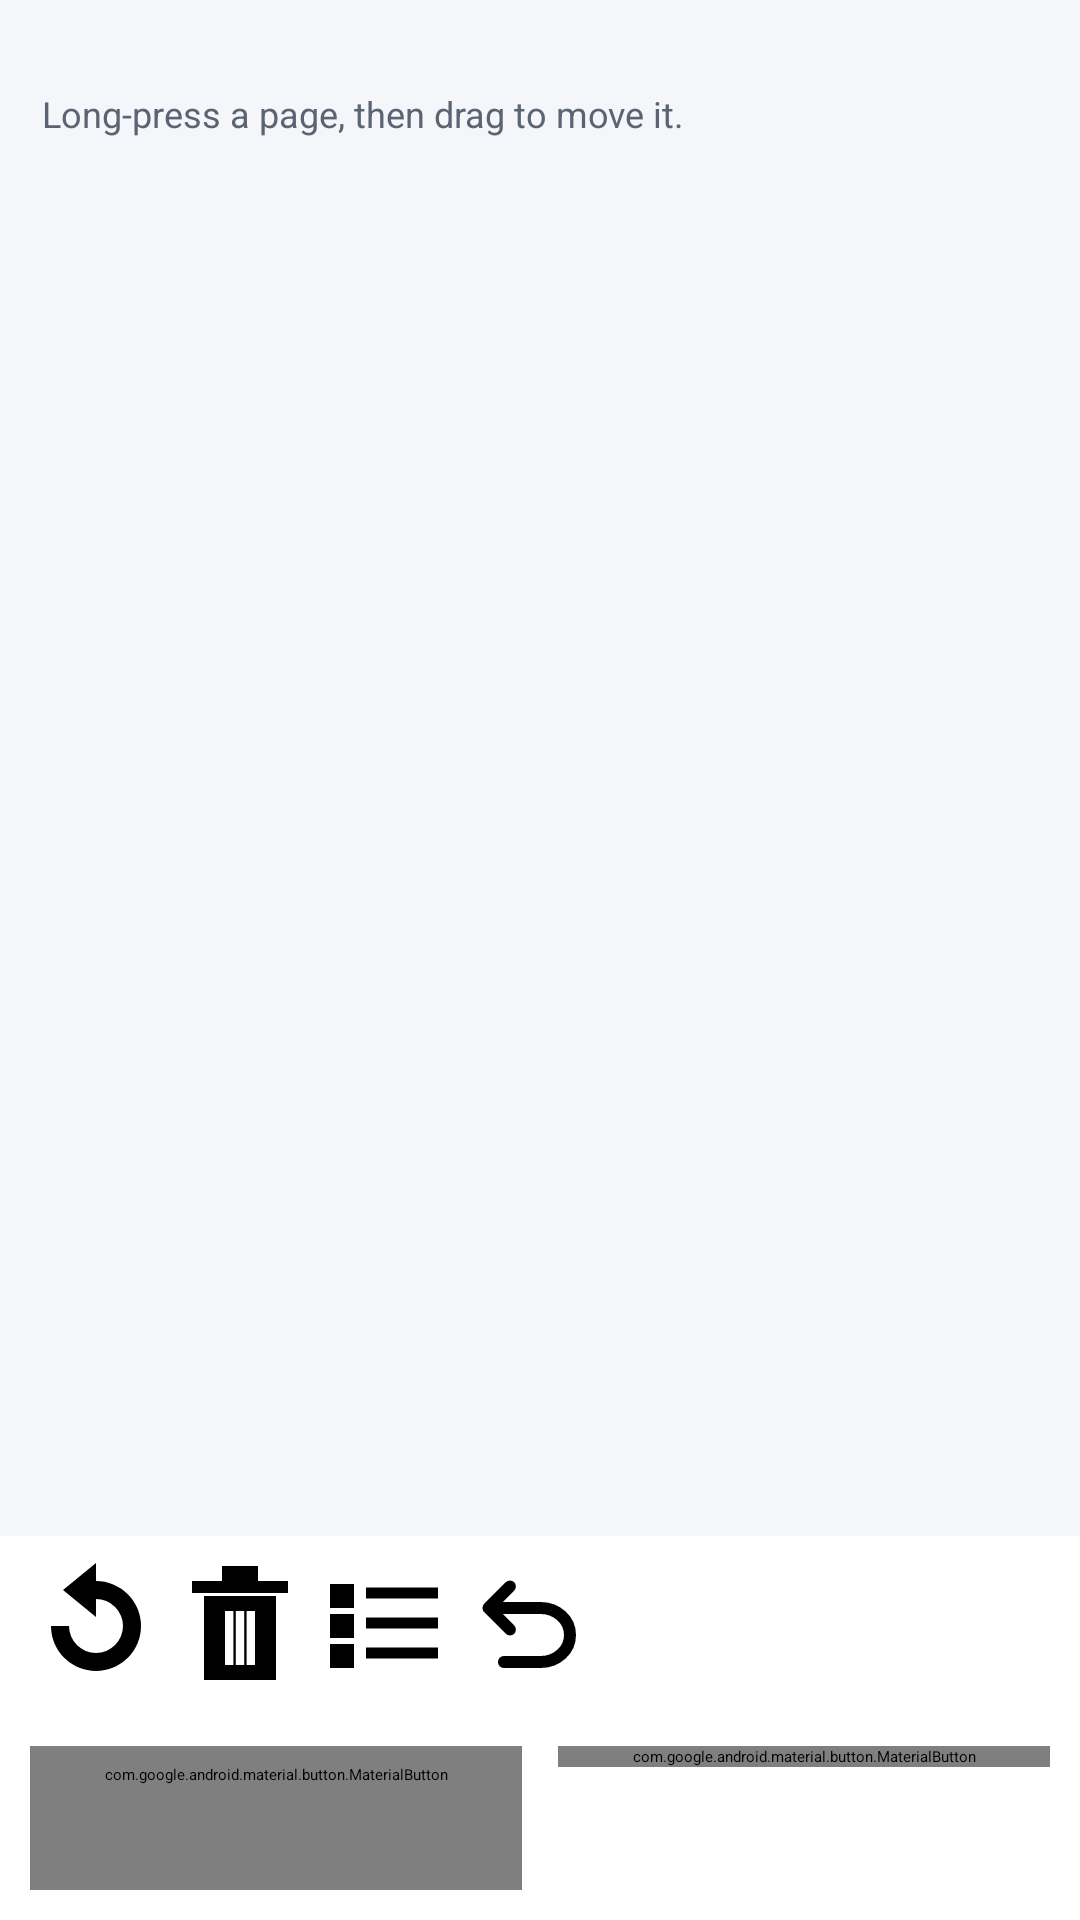

Named icons in this screenshot (1080x1920) and their bounding boxes, box(x1, y1, x2, y2):
Delete: box(192, 1566, 288, 1680)
Rotate: box(51, 1563, 141, 1671)
Select all: box(330, 1584, 438, 1668)
Undo: box(482, 1580, 576, 1668)
